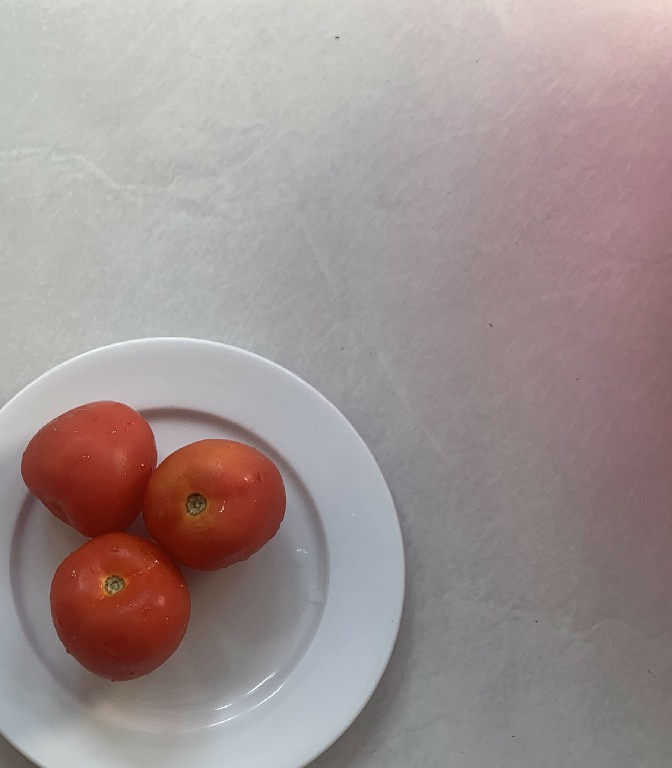OK: (42, 531, 194, 687), (142, 434, 287, 572), (16, 396, 157, 535)
